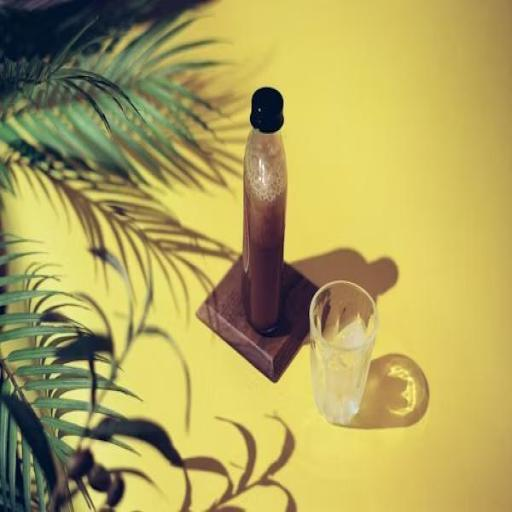bottle: (240, 76, 292, 342)
